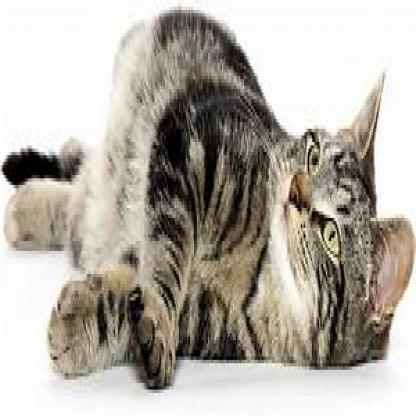cat: (4, 10, 412, 389)
